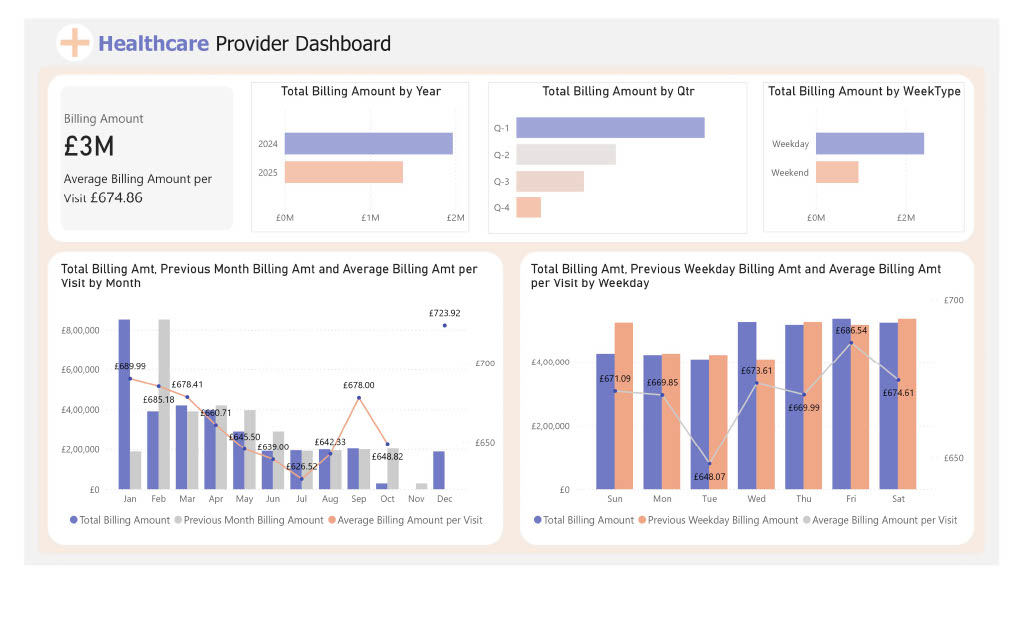

What the dashboard file says about the page in this screenshot:
{"tool":"powerbi","page":{"name":"Trend Page","canvas":[1280,720],"ordinal":1},"visuals":[{"type":"lineClusteredColumnComboChart","title":"Total Billing Amt, Previous Month Billing Amt and Average Billing Amt per Visit by Month","fields":{"Category":["DateTable.Month"],"Y":["DAX Calculation.Total Billing Amount","DAX Calculation.Previous Month Billing Amount"],"Y2":["DAX Calculation.Average Billing Amount per Visit"]},"box":[43.2,318.1,579.9,358.7],"z":0},{"type":"lineClusteredColumnComboChart","title":"Total Billing Amt, Previous Weekday Billing Amt and Average Billing Amt per Visit by Weekday","fields":{"Y":["DAX Calculation.Total Billing Amount","DAX Calculation.Previous Weekday Billing Amount"],"Y2":["DAX Calculation.Average Billing Amount per Visit"],"Category":["DateTable.Weekday"]},"box":[659.8,318.1,578.6,358.7],"z":1000},{"type":"clusteredBarChart","fields":{"Y":["DAX Calculation.Total Billing Amount"],"Category":["DateTable.Year"]},"box":[298.5,83.8,285.4,197.7],"z":2000},{"type":"clusteredBarChart","fields":{"Y":["DAX Calculation.Total Billing Amount"],"Category":["DateTable.Qtr"]},"box":[608.7,83.8,340.4,199],"z":3000},{"type":"clusteredBarChart","fields":{"Y":["DAX Calculation.Total Billing Amount"],"Category":["DateTable.WeekType"]},"box":[970,83.8,264.4,197.7],"z":4000},{"type":"cardVisual","fields":{"Data":["DAX Calculation.Total Billing Amount"]},"box":[43.2,83.8,235.6,199],"z":5000},{"type":"textbox","box":[92.2,10.1,403.2,51.8],"z":6000},{"type":"image","box":[37.4,1.4,59,60.5],"z":7000}]}

Visuals, with their boxes on the page's 1280x720 design canvas (x1, y1, x2, y2). These are canvas units, not pixel positions in the 1024x622 screenshot, which may show the page scaled, cropped or inside an application window:
"Total Billing Amt, Previous Month Billing Amt and Average Billing Amt per Visit by Month" lineClusteredColumnComboChart: BBox(43, 318, 623, 677)
"Total Billing Amt, Previous Weekday Billing Amt and Average Billing Amt per Visit by Weekday" lineClusteredColumnComboChart: BBox(660, 318, 1238, 677)
clusteredBarChart - DAX Calculation.Total Billing Amount x DateTable.Year: BBox(298, 84, 584, 282)
clusteredBarChart - DAX Calculation.Total Billing Amount x DateTable.Qtr: BBox(609, 84, 949, 283)
clusteredBarChart - DAX Calculation.Total Billing Amount x DateTable.WeekType: BBox(970, 84, 1234, 282)
cardVisual - DAX Calculation.Total Billing Amount: BBox(43, 84, 279, 283)
textbox: BBox(92, 10, 495, 62)
image: BBox(37, 1, 96, 62)
